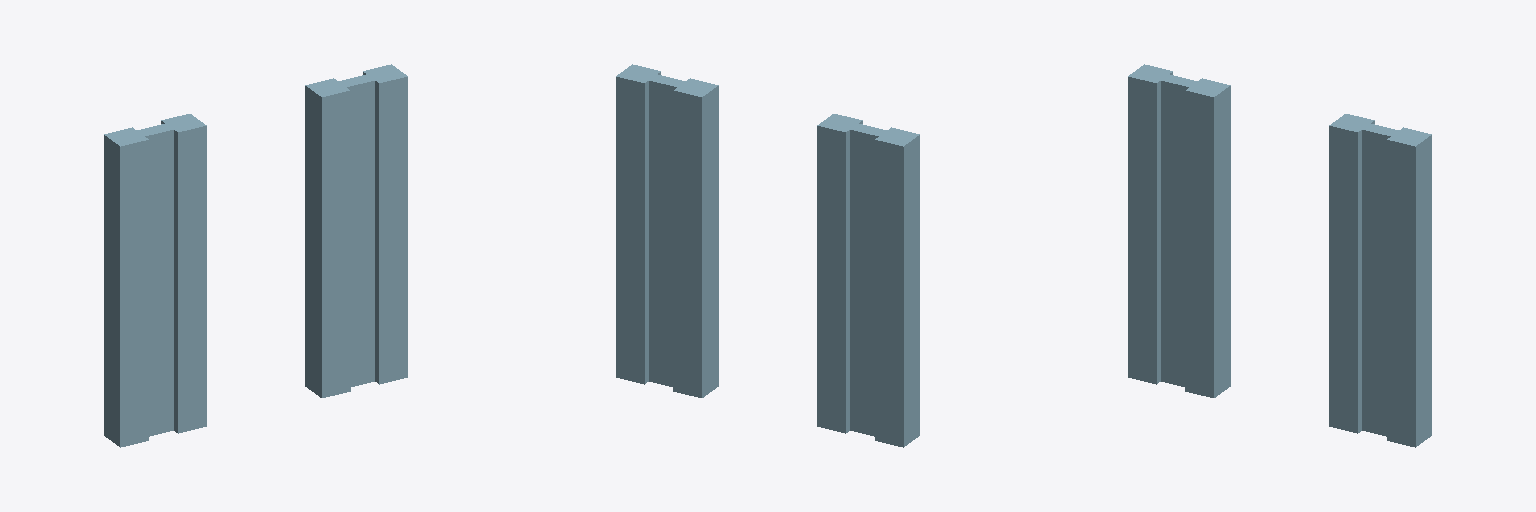
File: Gate.obj
The picture shows the model from 3 angles: view 1: azimuth 30°, elevation 25°; view 2: azimuth 150°, elevation 25°; view 3: azimuth 330°, elevation 25°; orthographic projection.
Parts seen in each view (by area): view 1: mergedBlocks; view 2: mergedBlocks; view 3: mergedBlocks.
Boxes of the visible parts, box(x1,y1,x2,y2) form: mergedBlocks: box(104, 64, 407, 447); mergedBlocks: box(616, 64, 919, 447); mergedBlocks: box(1128, 64, 1431, 447).
Bounding box in the file's own units: 2 × 2 × 0.2.